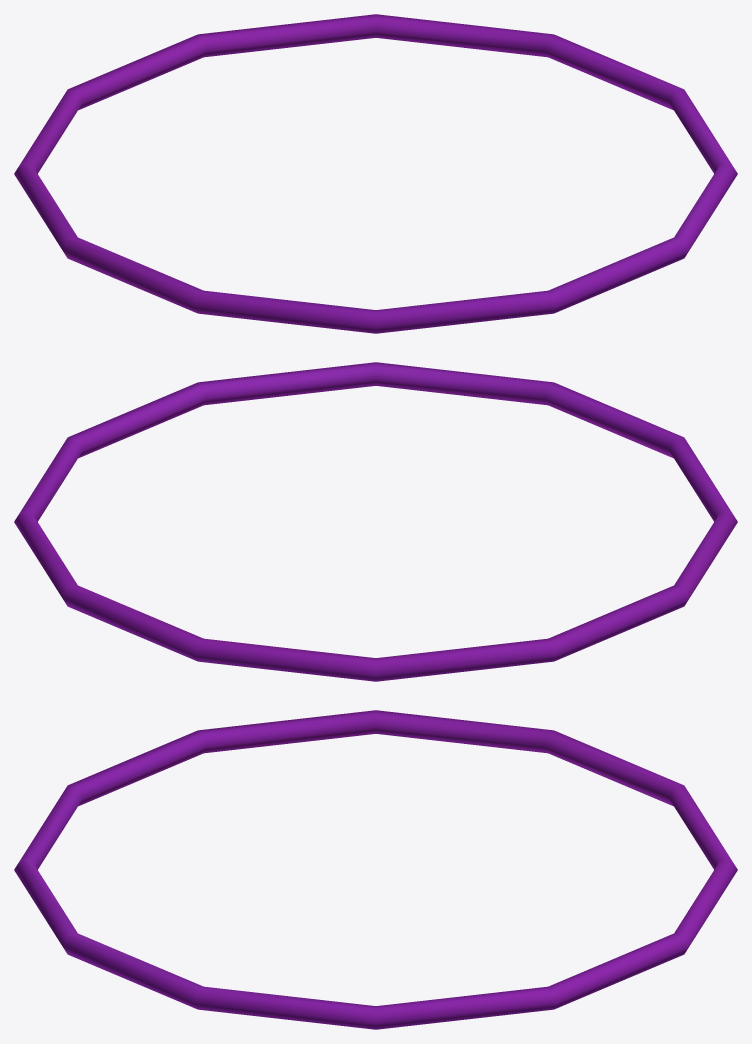
File: HulaHoopPurple.glb
3 views of the same model, one above another, from view 1: azimuth 30°, elevation 25°; view 2: azimuth 150°, elevation 25°; view 3: azimuth 270°, elevation 25° (orthographic).
Visible parts, largest first — view 1: HulaHoopPurple; view 2: HulaHoopPurple; view 3: HulaHoopPurple.
Part boxes in pixels (box(x1,y1,x2,y2)): HulaHoopPurple: box(14, 14, 737, 333); HulaHoopPurple: box(14, 362, 737, 681); HulaHoopPurple: box(14, 710, 737, 1029).
Bounding box in the file's own units: 1.04 × 0.0296 × 1.04.
Materials: 1 (1 with a texture image).
